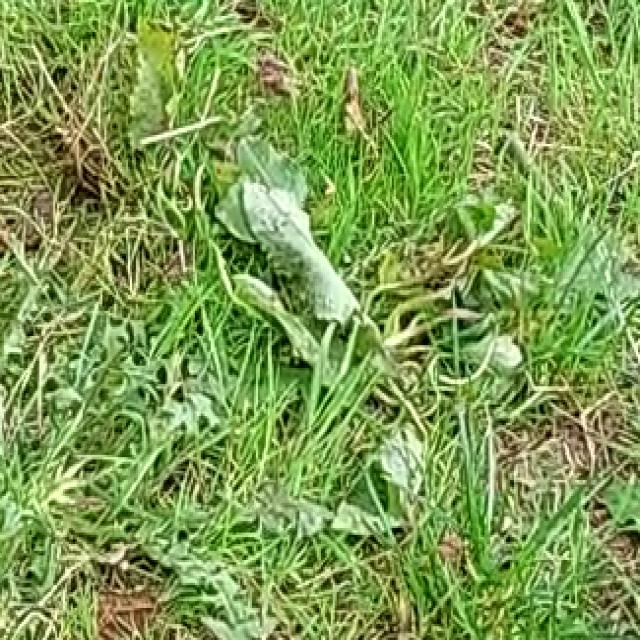organic waste: (179, 155, 479, 448)
